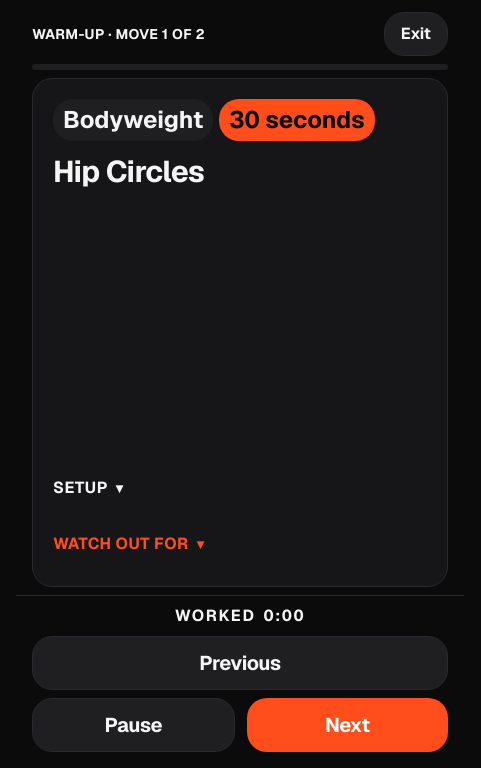
Test: WorkoutRunner › walks warm-up moves one at a time, forwards and back
The image size is (481, 768).
Expected: the heading "Hip Circles" is shown, top-left (53, 152), bottom-right (204, 191)
Click the button "Next" at (347, 725), box top-left (247, 698), bottom-right (448, 752)
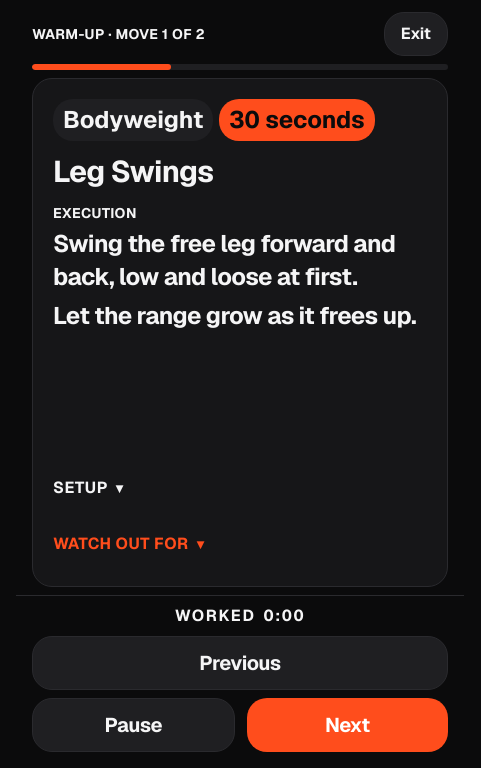
Result: the heading "Leg Swings" is shown at top-left (53, 152), bottom-right (213, 191)
Click the button "Previous" at (240, 663), box top-left (32, 636), bottom-right (448, 690)
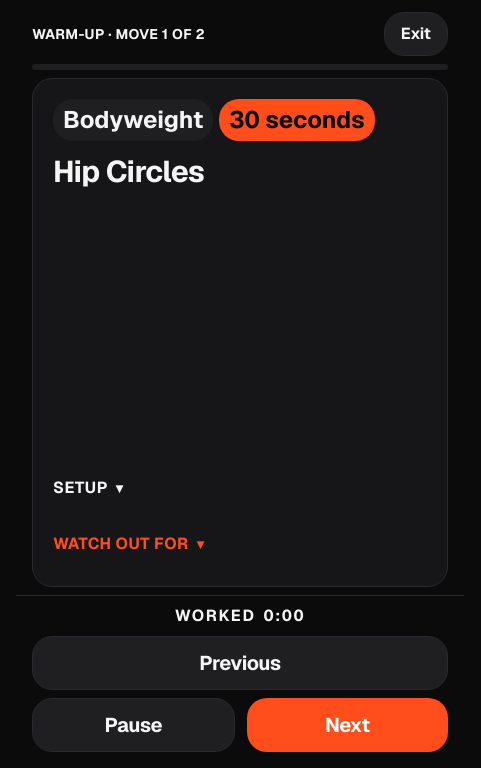
Result: the heading "Hip Circles" is shown at top-left (53, 152), bottom-right (204, 191)
